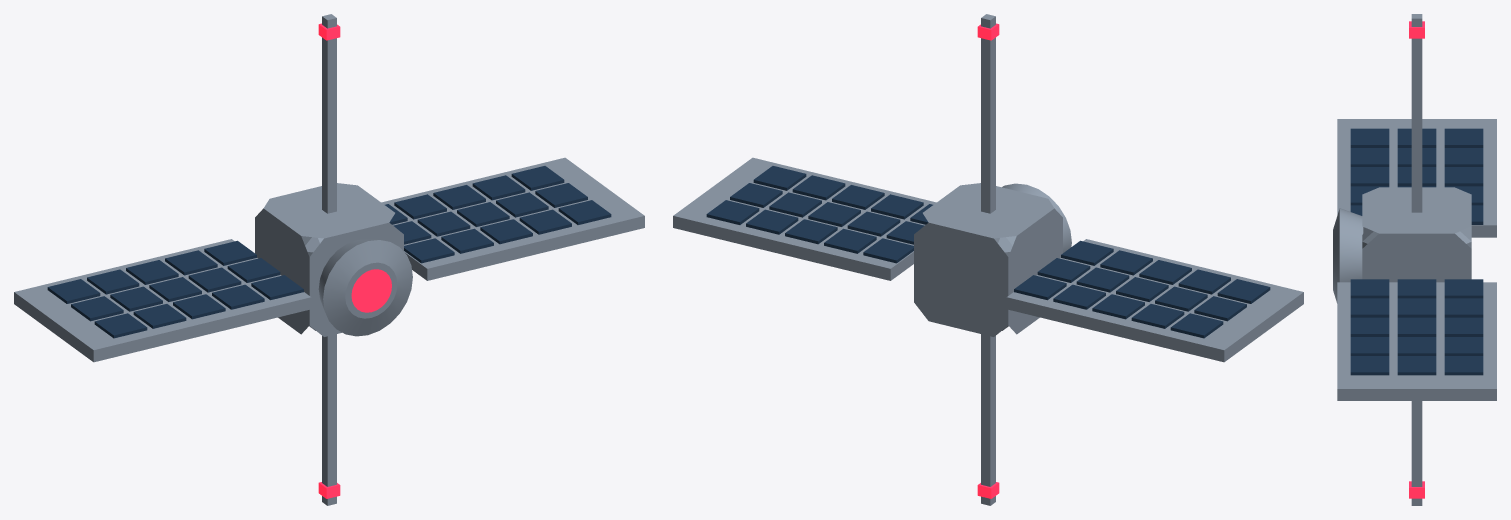
Rendered from command_relay.glb.
The picture shows the model from 3 angles, left to right: view 1: azimuth 30°, elevation 25°; view 2: azimuth 150°, elevation 25°; view 3: azimuth 270°, elevation 25°; orthographic projection.
Parts seen in each view (by area): view 1: Relay; view 2: Relay; view 3: Relay.
Part boxes in pixels (x1,y1,x2,y2): Relay: (14,14,644,505); Relay: (673,14,1303,505); Relay: (1333,14,1496,505).
Bounding box in the file's own units: 3.8 × 3.2 × 0.98.
